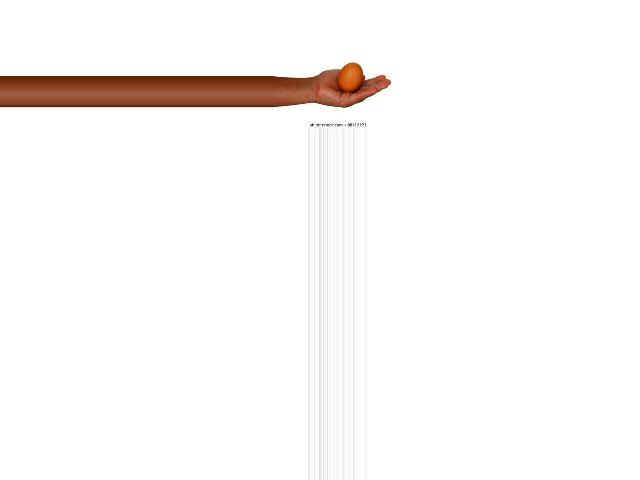egg: (338, 62, 363, 93)
